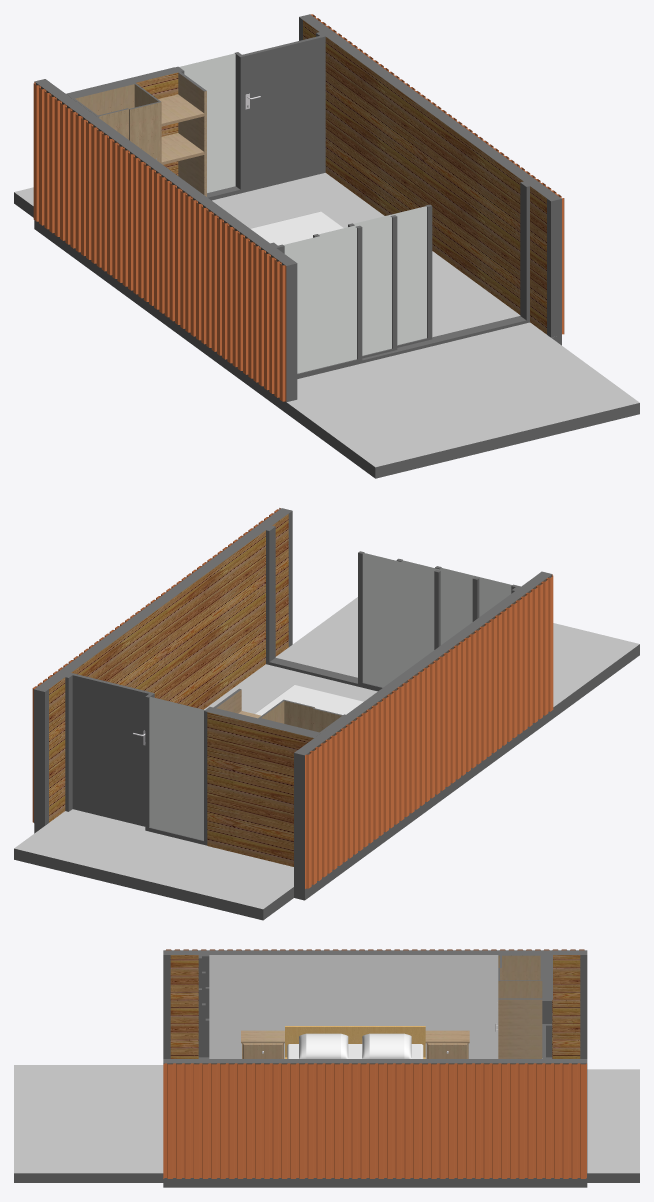
The model's file is asset.glb.
3 views of the same model, one above another, from view 1: azimuth 30°, elevation 25°; view 2: azimuth 150°, elevation 25°; view 3: azimuth 270°, elevation 25° (orthographic). The views are drawn at different scales.
Parts seen in each view (by area): view 1: Modelo; view 2: Modelo; view 3: Modelo.
Boxes of the visible parts, left/top/right/bottom form: Modelo: left=14, top=14, right=639, bottom=478; Modelo: left=14, top=508, right=639, bottom=920; Modelo: left=14, top=949, right=639, bottom=1187.
Size of the model in its own units: 3.09 by 1.56 by 7.12.
Materials: 13 (5 with a texture image).
